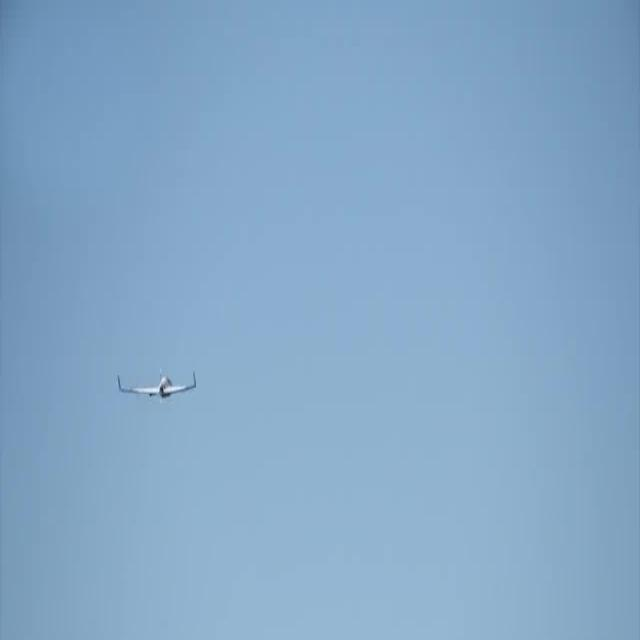iha: (148, 361, 168, 410)
